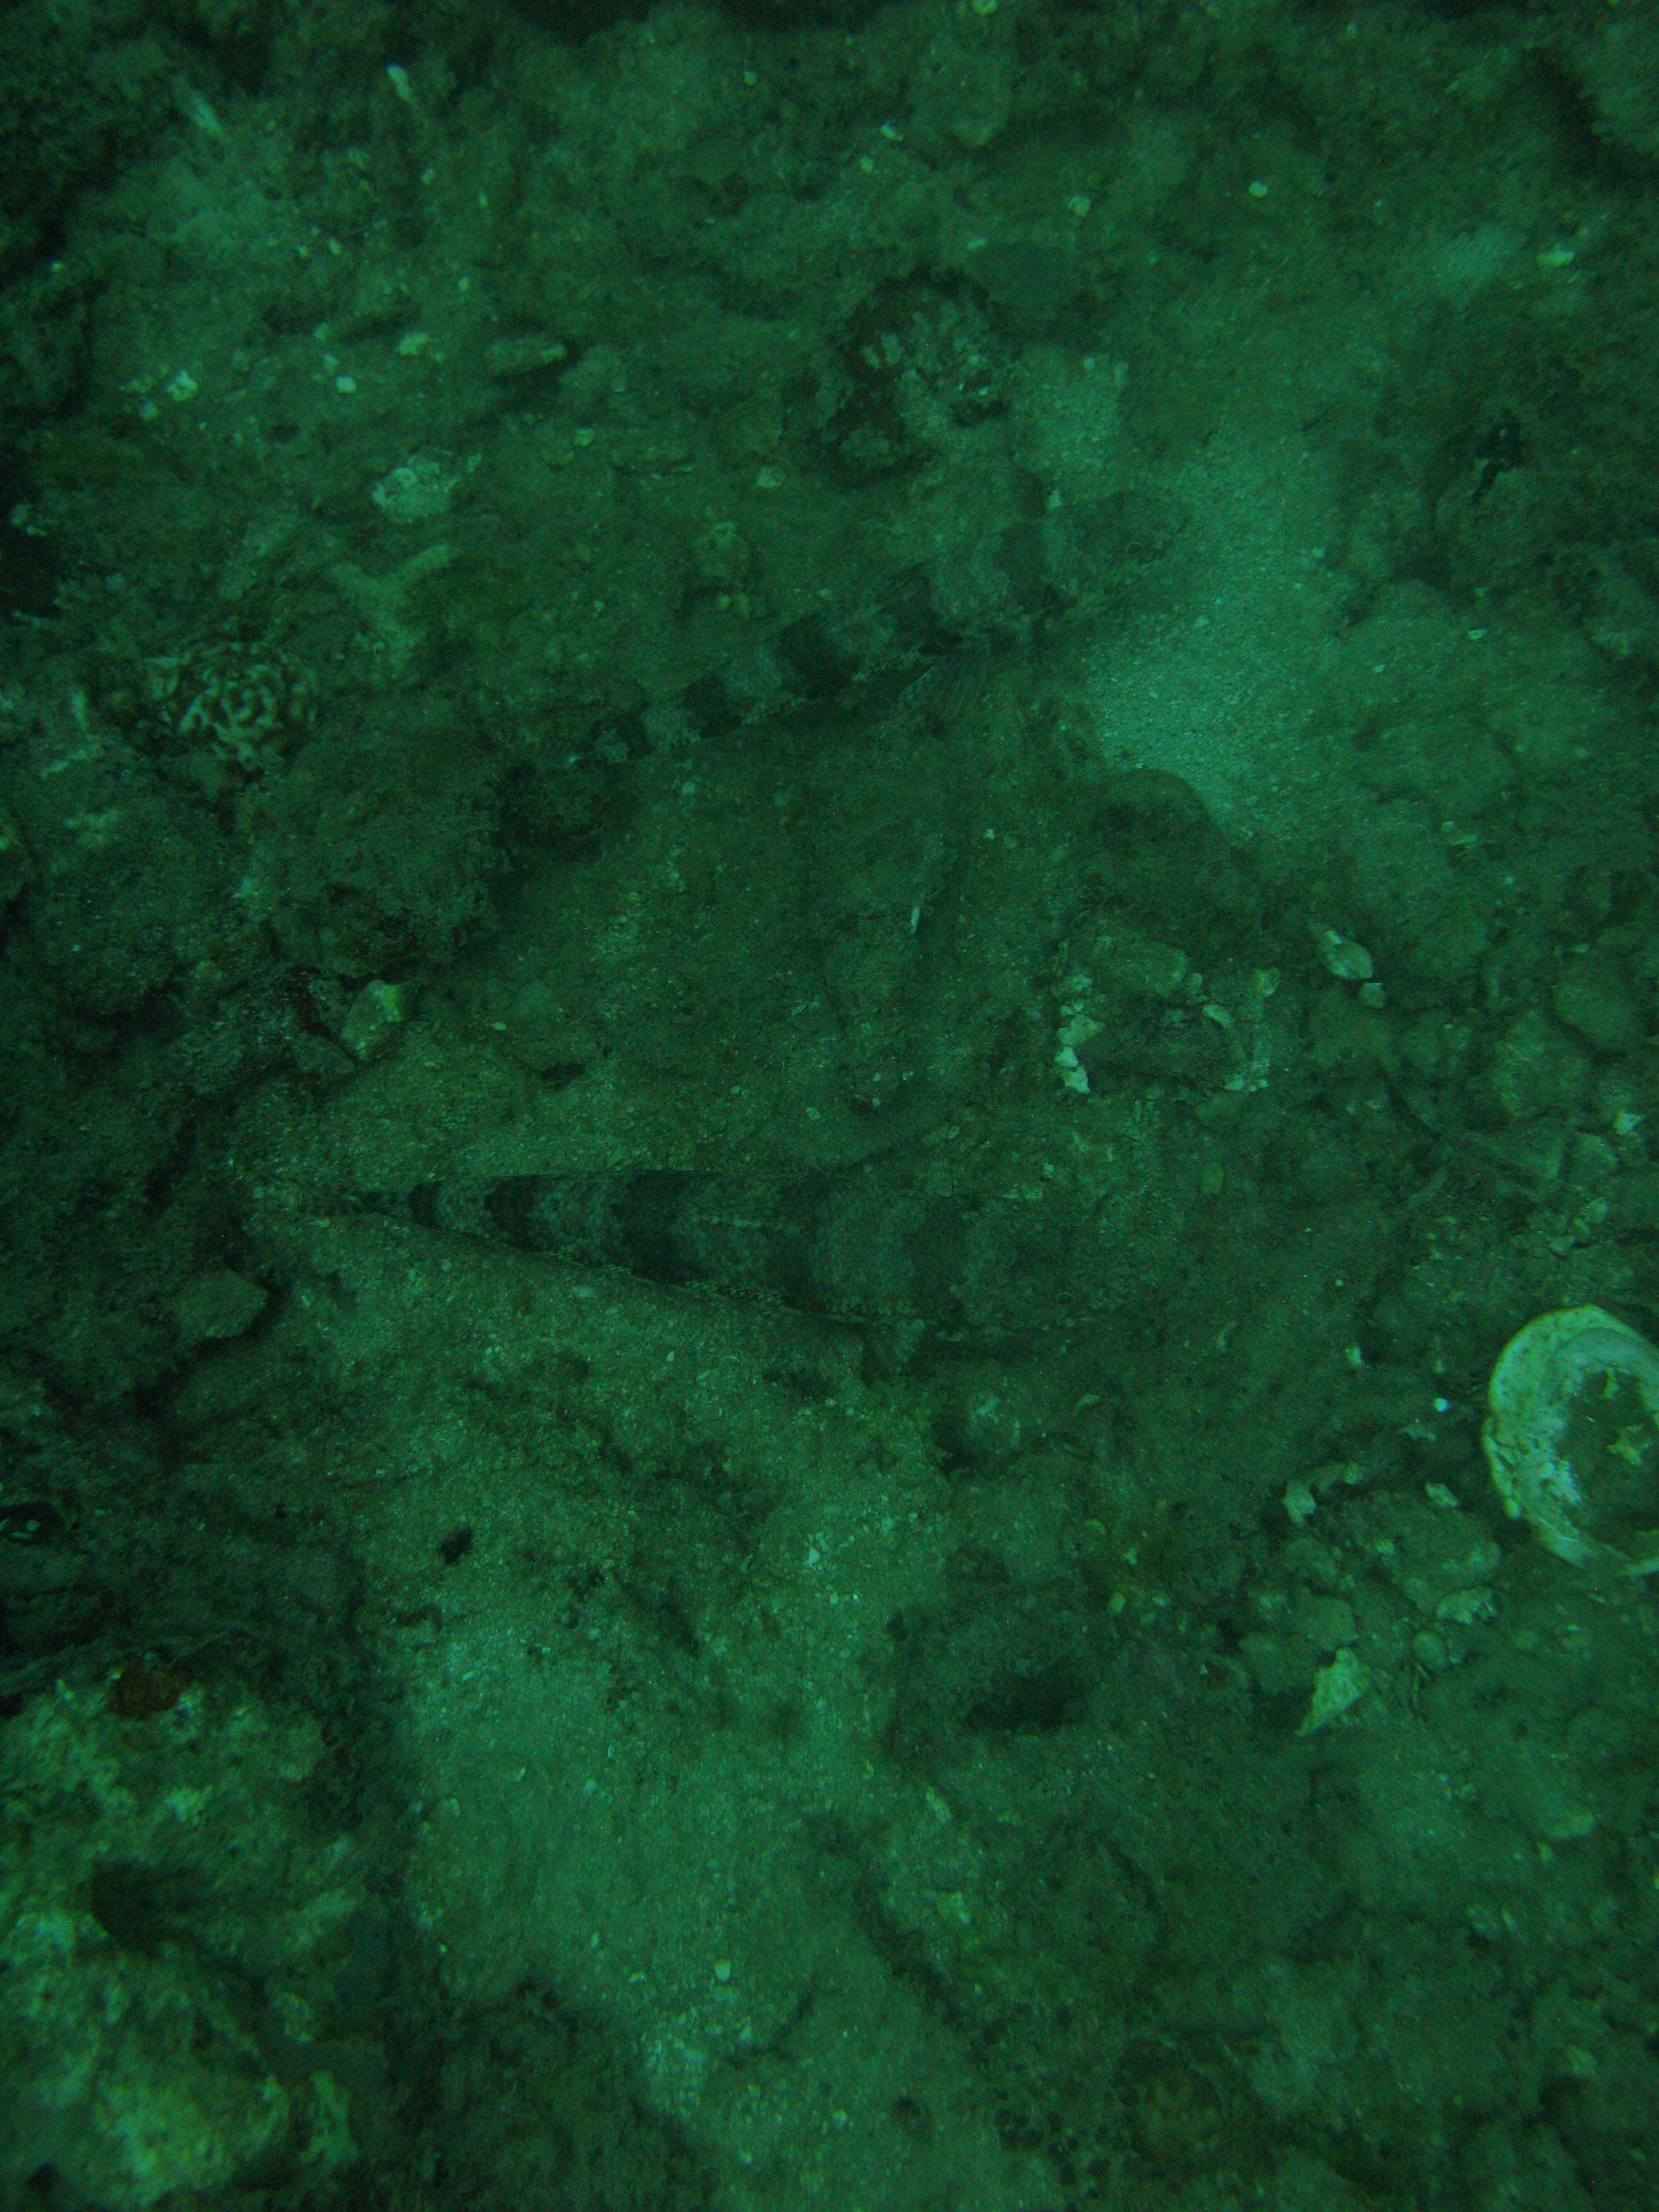Fish: (373, 390, 1286, 918), (171, 1109, 1382, 1413)
